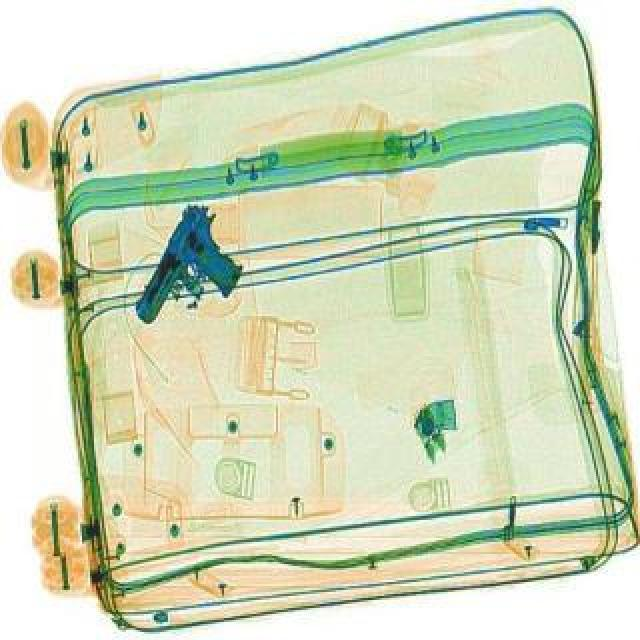gun: (126, 196, 266, 346)
